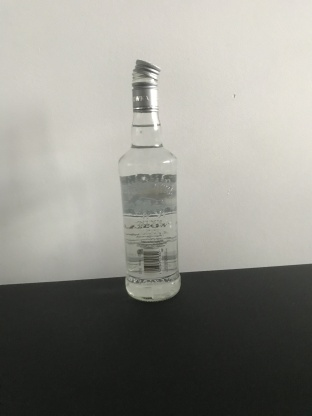nakretka: (130, 57, 162, 113)
